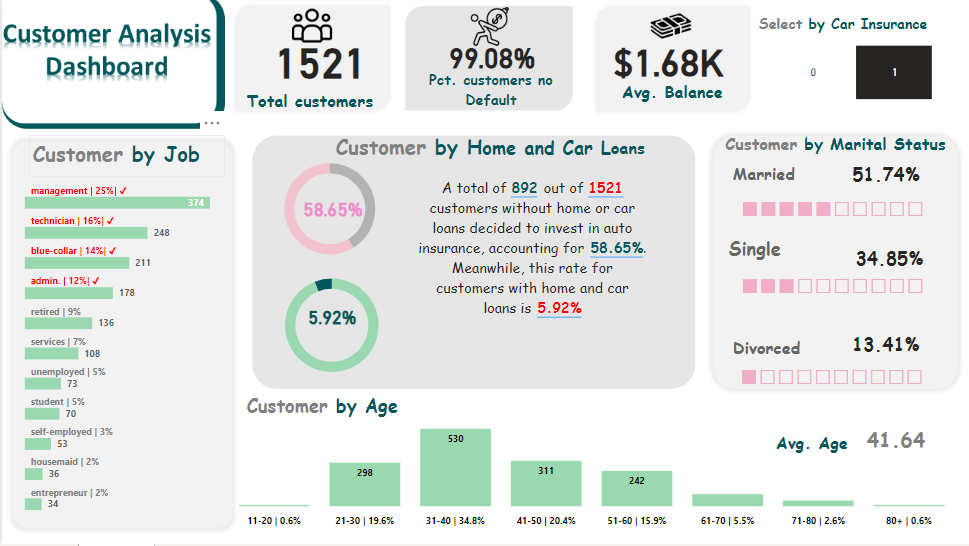

The page's visual inventory and layout, read from the dashboard file:
{"tool":"powerbi","page":{"name":"Page 1","canvas":[1280,720],"ordinal":0},"visuals":[{"type":"card","fields":{"Values":["All measure.Total_Cutomer"]},"box":[305.5,8,223.5,147.9],"z":0},{"type":"columnChart","fields":{"Category":["CarInsurance.Age_Group"],"Y":["All measure.Blank","All measure.Total_Cutomer"]},"box":[306.1,541.3,939.4,173.4],"z":1000},{"type":"clusteredBarChart","fields":{"Category":["CarInsurance.Job"],"Y":["All measure.Blank_Measure","All measure.Total_Cutomer"]},"box":[24.8,235.4,280.8,445.9],"z":2000},{"type":"card","fields":{"Values":["All measure.Chart Married"]},"box":[910.2,228.3,361.8,88.4],"z":3000},{"type":"card","fields":{"Values":["All measure.Chart single"]},"box":[953.6,340.9,275,69.1],"z":4000},{"type":"card","fields":{"Values":["All measure.Chart divorced"]},"box":[901.5,447.3,378.5,95],"z":5000},{"type":"card","fields":{"Values":["All measure.Avg. Age"]},"box":[1077.7,547.8,194.1,71.6],"z":6000},{"type":"advancedSlicerVisual","fields":{"Values":["CarInsurance.CarInsurance"]},"box":[1010.7,60,217.3,80],"z":7000},{"type":"card","fields":{"Values":["All measure.Pct_Married"]},"box":[1087,209,149.5,51.5],"z":8000},{"type":"textbox","box":[955.2,212.3,131.9,57.9],"z":9000},{"type":"textbox","box":[950.4,308.7,141.5,49.8],"z":10000},{"type":"textbox","box":[955.2,441.8,125.2,50.9],"z":11000},{"type":"card","fields":{"Values":["All measure.Pct_Single"]},"box":[1095.1,316.8,143.1,57.9],"z":12000},{"type":"card","fields":{"Values":["All measure.Pct_Divorced"]},"box":[1094.2,433.5,133.5,49.5],"z":13000},{"type":"donutChart","fields":{"Y":["All measure.% have_car_and_hh","All measure.% car_and_hh"]},"box":[334.5,199.6,191.3,159.7],"z":14000},{"type":"card","fields":{"Values":["All measure.% car_and_hh"]},"box":[371.6,238.1,125.2,82.6],"z":15000},{"type":"donutChart","fields":{"Y":["All measure.% 1-yes_car_and_hh","All measure.% yes_car_and_hh"]},"box":[323.4,351,220.2,163.8],"z":16000},{"type":"card","fields":{"Values":["All measure.% yes_car_and_hh"]},"box":[373.1,376.3,120.6,91.7],"z":17000},{"type":"textbox","box":[540.9,232.6,311.1,235.4],"z":18000},{"type":"card","fields":{"Values":["All measure.Avg.Balance"]},"box":[783.1,25.7,184.9,112.6],"z":19000},{"type":"card","fields":{"Values":["All measure.% No_Đefault"]},"box":[512,27.5,262.9,103.2],"z":20000},{"type":"textbox","box":[1011.6,565.7,151.4,53.7],"z":21000},{"type":"textbox","box":[316.8,117.4,234.8,75.6],"z":22000},{"type":"textbox","box":[540.9,90.8,202.3,78.5],"z":23000},{"type":"textbox","box":[809.3,105.1,202.3,51.2],"z":24000},{"type":"textbox","box":[35.8,183.1,257.4,55.1],"z":25000},{"type":"textbox","box":[316.6,514.8,272.5,53.7],"z":26000},{"type":"textbox","box":[909.8,173.4,335.8,55.1],"z":27000},{"type":"textbox","box":[433.5,173.4,488.6,67.4],"z":28000},{"type":"textbox","box":[989.6,16.5,257.4,74.3],"z":28001}]}

Visuals, with their boxes in screenshot pixels (x1, y1, x2, y2), scaled from the page's 1280x720 canvas onto the 969x546 screenshot:
card - All measure.Total_Cutomer: {"x1": 231, "y1": 6, "x2": 400, "y2": 118}
columnChart - CarInsurance.Age_Group x All measure.Blank: {"x1": 232, "y1": 410, "x2": 943, "y2": 542}
clusteredBarChart - CarInsurance.Job x All measure.Blank_Measure: {"x1": 19, "y1": 179, "x2": 231, "y2": 517}
card - All measure.Chart Married: {"x1": 689, "y1": 173, "x2": 963, "y2": 240}
card - All measure.Chart single: {"x1": 722, "y1": 259, "x2": 930, "y2": 311}
card - All measure.Chart divorced: {"x1": 682, "y1": 339, "x2": 968, "y2": 411}
card - All measure.Avg. Age: {"x1": 816, "y1": 415, "x2": 963, "y2": 470}
advancedSlicerVisual - CarInsurance.CarInsurance: {"x1": 765, "y1": 46, "x2": 930, "y2": 106}
card - All measure.Pct_Married: {"x1": 823, "y1": 158, "x2": 936, "y2": 198}
textbox: {"x1": 723, "y1": 161, "x2": 823, "y2": 205}
textbox: {"x1": 719, "y1": 234, "x2": 827, "y2": 272}
textbox: {"x1": 723, "y1": 335, "x2": 818, "y2": 374}
card - All measure.Pct_Single: {"x1": 829, "y1": 240, "x2": 937, "y2": 284}
card - All measure.Pct_Divorced: {"x1": 828, "y1": 329, "x2": 929, "y2": 366}
donutChart - All measure.% have_car_and_hh x All measure.% car_and_hh: {"x1": 253, "y1": 151, "x2": 398, "y2": 272}
card - All measure.% car_and_hh: {"x1": 281, "y1": 181, "x2": 376, "y2": 243}
donutChart - All measure.% 1-yes_car_and_hh x All measure.% yes_car_and_hh: {"x1": 245, "y1": 266, "x2": 412, "y2": 390}
card - All measure.% yes_car_and_hh: {"x1": 282, "y1": 285, "x2": 374, "y2": 355}
textbox: {"x1": 409, "y1": 176, "x2": 645, "y2": 355}
card - All measure.Avg.Balance: {"x1": 593, "y1": 19, "x2": 733, "y2": 105}
card - All measure.% No_Đefault: {"x1": 388, "y1": 21, "x2": 587, "y2": 99}
textbox: {"x1": 766, "y1": 429, "x2": 880, "y2": 470}
textbox: {"x1": 240, "y1": 89, "x2": 418, "y2": 146}
textbox: {"x1": 409, "y1": 69, "x2": 563, "y2": 128}
textbox: {"x1": 613, "y1": 80, "x2": 766, "y2": 119}
textbox: {"x1": 27, "y1": 139, "x2": 222, "y2": 181}
textbox: {"x1": 240, "y1": 390, "x2": 446, "y2": 431}
textbox: {"x1": 689, "y1": 131, "x2": 943, "y2": 173}
textbox: {"x1": 328, "y1": 131, "x2": 698, "y2": 183}
textbox: {"x1": 749, "y1": 13, "x2": 944, "y2": 69}
